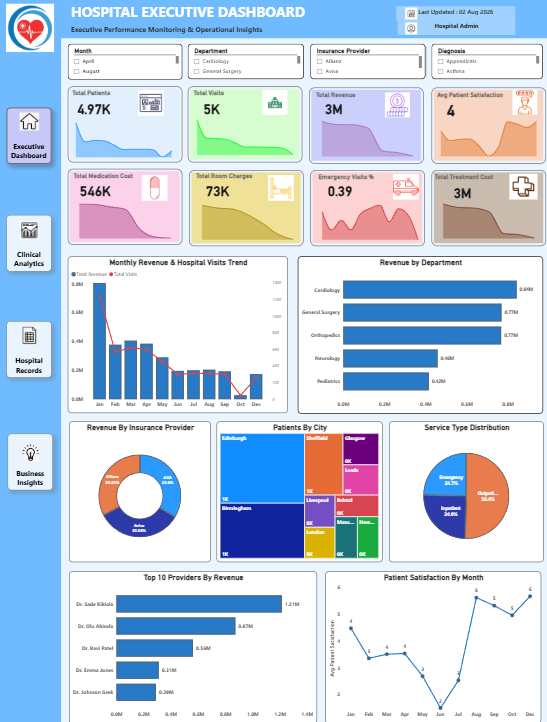

This screenshot's page, from the dashboard's own definition file:
{"tool":"powerbi","page":{"name":"Executive Dashboard","canvas":[1470,1950],"ordinal":0},"visuals":[{"type":"shape","box":[0,101.4,165.7,1848.6],"z":0,"group":"g4"},{"type":"shape","box":[181.7,231.1,305.6,202.8],"z":0,"group":"g1"},{"type":"lineClusteredColumnComboChart","title":"Monthly Revenue & Hospital Visits Trend","fields":{"Category":["Date Table.Month Short"],"Y":["DAX Measures.Total Revenue"],"Y2":["DAX Measures.Total Visits"]},"box":[184,684,587.3,418.3],"z":0,"group":"g3"},{"type":"shape","box":[0,0,1470,102],"z":1000,"group":"g4"},{"type":"cardVisual","fields":{"Data":["DAX Measures.Total Patients"]},"box":[187.3,256.5,126.8,66.2],"z":1000,"group":"g1"},{"type":"clusteredBarChart","title":"Revenue by Department","fields":{"Category":["departments.Department"],"Y":["DAX Measures.Total Revenue"]},"box":[797.3,684.5,654,420],"z":1000,"group":"g3"},{"type":"textbox","box":[177.1,0,747.1,72.9],"z":2000,"group":"g4"},{"type":"donutChart","title":"Revenue By Insurance Provider","fields":{"Category":["insurance.Insurance Provider"],"Y":["DAX Measures.Total Revenue"]},"box":[186.6,1125.2,378.6,375.7],"z":2000,"group":"g3"},{"type":"textbox","box":[176.7,60,571.7,41.7],"z":3000,"group":"g4"},{"type":"pieChart","title":"Service Type Distribution","fields":{"Category":["visits.Service Type"],"Y":["DAX Measures.Total Visits"]},"box":[1040.9,1125.2,412.9,375.7],"z":3000,"group":"g3"},{"type":"image","box":[8.6,8.6,145.7,128.6],"z":4000,"group":"g4"},{"type":"treemap","title":"Patients By City","fields":{"Group":["cities.City"],"Values":["DAX Measures.Total Patients"]},"box":[581.6,1125.2,442.9,375.7],"z":4000,"group":"g3"},{"type":"group","id":"g1","title":"Group 1","box":[181.7,231,1274.6,425.4],"z":5000,"group":"g4"},{"type":"clusteredBarChart","title":"Top 10 Providers By Revenue","fields":{"Category":["providers.Provider Name"],"Y":["DAX Measures.Total Revenue"]},"box":[186.6,1523.8,661.4,407.1],"z":5000,"group":"g3"},{"type":"textbox","box":[187.3,234,122.5,43.7],"z":6000,"group":"g1"},{"type":"actionButton","box":[20,285,120,150],"z":6000,"group":"g4"},{"type":"lineChart","title":"Patient Satisfaction By Month","fields":{"Category":["Date Table.Month Short"],"Y":["DAX Measures.Avg Patient Satisfaction"]},"box":[872.3,1523.8,575.7,407.1],"z":6000,"group":"g3"},{"type":"group","id":"g2","title":"Group 2","box":[182,116,1266,96],"z":7000,"group":"g4"},{"type":"areaChart","fields":{"Category":["Date Table.Month Short"],"Y":["DAX Measures.Monthly Patients"]},"box":[187.3,312.8,285.9,111.3],"z":7000,"group":"g1"},{"type":"cardVisual","fields":{"Data":["DAX Measures.Last Refresh"]},"box":[1043.3,0,350,73.3],"z":8000,"group":"g4"},{"type":"image","box":[345.1,242.4,116.9,69],"z":8000,"group":"g1"},{"type":"shape","box":[501.9,231,305.6,202.8],"z":9000,"group":"g1"},{"type":"group","id":"g3","title":"Group 3","box":[184,684,1268,1246],"z":9000,"group":"g4"},{"type":"cardVisual","fields":{"Data":["DAX Measures.Total Visits"]},"box":[501.4,259.3,126.8,66.2],"z":10000,"group":"g1"},{"type":"actionButton","box":[20,571.7,120,150],"z":10000,"group":"g4"},{"type":"textbox","box":[511.2,234.5,121.3,42.7],"z":11000,"group":"g1"},{"type":"image","box":[51.7,300,55,48.3],"z":11000,"group":"g4"},{"type":"areaChart","fields":{"Category":["Date Table.Month Short"],"Y":["DAX Measures.Total Visits"]},"box":[511.2,307.8,285.3,112],"z":12000,"group":"g1"},{"type":"image","box":[51.7,588.3,55,48.3],"z":12000,"group":"g4"},{"type":"image","box":[681,242.3,104.2,66.2],"z":13000,"group":"g1"},{"type":"actionButton","box":[21.7,1156.7,120,150],"z":13000,"group":"g4"},{"type":"shape","box":[826.4,233.3,305.6,202.8],"z":14000,"group":"g1"},{"type":"actionButton","box":[20,855,120,150],"z":14000,"group":"g4"},{"type":"cardVisual","fields":{"Data":["DAX Measures.Total Revenue"]},"box":[826.8,259.3,126.8,66.2],"z":15000,"group":"g1"},{"type":"image","box":[56.7,1183.3,55,48.3],"z":15000,"group":"g4"},{"type":"textbox","box":[838,238.2,121.1,42.3],"z":16000,"group":"g1"},{"type":"image","box":[53.3,870,55,48.3],"z":16000,"group":"g4"},{"type":"textbox","box":[1061.7,53.3,313.3,40],"z":17000,"group":"g4"},{"type":"areaChart","fields":{"Y":["DAX Measures.Total Revenue"],"Category":["Date Table.Weekday"]},"box":[838,310,285.9,112.7],"z":17000,"group":"g1"},{"type":"image","box":[1083.3,20,31.7,31.7],"z":18000,"group":"g4"},{"type":"image","box":[1009.9,246.6,104.2,66.2],"z":18000,"group":"g1"},{"type":"image","box":[1083.3,55,31.7,38.3],"z":19000,"group":"g4"},{"type":"shape","box":[1150.9,234.4,305.6,202.8],"z":19000,"group":"g1"},{"type":"group","id":"g4","title":"Group 4","box":[0,0,1470,1950],"z":19001},{"type":"cardVisual","fields":{"Data":["DAX Measures.Avg Patient Satisfaction"]},"box":[1171.8,259.3,63.4,74.6],"z":20000,"group":"g1"},{"type":"textbox","box":[1162,238.2,253.5,42.3],"z":21000,"group":"g1"},{"type":"areaChart","fields":{"Category":["Date Table.Month Short"],"Y":["DAX Measures.Avg Patient Satisfaction"]},"box":[1161.4,311.2,285.3,112],"z":22000,"group":"g1"},{"type":"image","box":[1349.3,242.4,104.2,66.2],"z":23000,"group":"g1"},{"type":"shape","box":[181.8,450.7,305.6,202.8],"z":25000,"group":"g1"},{"type":"cardVisual","fields":{"Data":["DAX Measures.Total Medication Cost"]},"box":[191.7,476.1,126.8,66.2],"z":26000,"group":"g1"},{"type":"textbox","box":[191.6,453.7,187.3,43.7],"z":27000,"group":"g1"},{"type":"areaChart","fields":{"Y":["DAX Measures.Total Medication Cost"],"Category":["Date Table.Weekday"]},"box":[191.7,532.4,285.9,111.3],"z":28000,"group":"g1"},{"type":"image","box":[356.3,466.4,116.9,69],"z":29000,"group":"g1"},{"type":"shape","box":[504.8,453,305.6,202.8],"z":30000,"group":"g1"},{"type":"cardVisual","fields":{"Data":["DAX Measures.Total Room Charges"]},"box":[519.6,478.3,126.8,66.2],"z":31000,"group":"g1"},{"type":"textbox","box":[519.7,455.1,173.2,43.7],"z":32000,"group":"g1"},{"type":"areaChart","fields":{"Y":["DAX Measures.Total Room Charges"],"Category":["Date Table.Weekday"]},"box":[519.6,534.7,285.9,111.3],"z":33000,"group":"g1"},{"type":"image","box":[690.2,466.4,116.9,69],"z":34000,"group":"g1"},{"type":"shape","box":[827.8,454,305.6,202.8],"z":35000,"group":"g1"},{"type":"cardVisual","fields":{"Data":["DAX Measures.Emergency Visits %"]},"box":[846.2,479.3,126.8,66.2],"z":36000,"group":"g1"},{"type":"textbox","box":[846.5,456.5,178.9,43.7],"z":37000,"group":"g1"},{"type":"areaChart","fields":{"Category":["Date Table.Month Short"],"Y":["DAX Measures.Emergency Visits %"]},"box":[846.2,535.6,285.9,111.3],"z":38000,"group":"g1"},{"type":"image","box":[1025.4,464.9,116.9,69],"z":39000,"group":"g1"},{"type":"shape","box":[1150.7,453.7,305.6,202.8],"z":40000,"group":"g1"},{"type":"cardVisual","fields":{"Data":["DAX Measures.Total Treatment Cost"]},"box":[1171.8,480.4,126.8,66.2],"z":41000,"group":"g1"},{"type":"textbox","box":[1154.9,457.9,184.5,43.7],"z":42000,"group":"g1"},{"type":"areaChart","fields":{"Y":["DAX Measures.Total Treatment Cost"],"Category":["Date Table.Weekday"]},"box":[1162,532.5,285.9,111.3],"z":43000,"group":"g1"},{"type":"image","box":[1339.4,463.5,116.9,69],"z":44000,"group":"g1"},{"type":"slicer","fields":{"Values":["Date Table.Month"]},"box":[182,116,305.6,95.8],"z":45000,"group":"g2"},{"type":"slicer","fields":{"Values":["departments.Department"]},"box":[503.1,116,309.9,94.4],"z":46000,"group":"g2"},{"type":"slicer","fields":{"Values":["insurance.Insurance Provider"]},"box":[828.5,117.4,307,94.4],"z":47000,"group":"g2"},{"type":"slicer","fields":{"Values":["diagnoses.Diagnosis"]},"box":[1151,116,297.2,94.4],"z":48000,"group":"g2"}]}

Visuals, with their boxes on the page's 1470x1950 design canvas (x1, y1, x2, y2). These are canvas units, not pixel positions in the 547x722 screenshot, which may show the page scaled, cropped or inside an application window:
shape: {"x1": 0, "y1": 101, "x2": 166, "y2": 1950}
shape: {"x1": 182, "y1": 231, "x2": 487, "y2": 434}
"Monthly Revenue & Hospital Visits Trend" lineClusteredColumnComboChart: {"x1": 184, "y1": 684, "x2": 771, "y2": 1102}
shape: {"x1": 0, "y1": 0, "x2": 1470, "y2": 102}
cardVisual - DAX Measures.Total Patients: {"x1": 187, "y1": 256, "x2": 314, "y2": 323}
"Revenue by Department" clusteredBarChart: {"x1": 797, "y1": 684, "x2": 1451, "y2": 1104}
textbox: {"x1": 177, "y1": 0, "x2": 924, "y2": 73}
"Revenue By Insurance Provider" donutChart: {"x1": 187, "y1": 1125, "x2": 565, "y2": 1501}
textbox: {"x1": 177, "y1": 60, "x2": 748, "y2": 102}
"Service Type Distribution" pieChart: {"x1": 1041, "y1": 1125, "x2": 1454, "y2": 1501}
image: {"x1": 9, "y1": 9, "x2": 154, "y2": 137}
"Patients By City" treemap: {"x1": 582, "y1": 1125, "x2": 1024, "y2": 1501}
"Group 1" group: {"x1": 182, "y1": 231, "x2": 1456, "y2": 656}
"Top 10 Providers By Revenue" clusteredBarChart: {"x1": 187, "y1": 1524, "x2": 848, "y2": 1931}
textbox: {"x1": 187, "y1": 234, "x2": 310, "y2": 278}
actionButton: {"x1": 20, "y1": 285, "x2": 140, "y2": 435}
"Patient Satisfaction By Month" lineChart: {"x1": 872, "y1": 1524, "x2": 1448, "y2": 1931}
"Group 2" group: {"x1": 182, "y1": 116, "x2": 1448, "y2": 212}
areaChart - Date Table.Month Short x DAX Measures.Monthly Patients: {"x1": 187, "y1": 313, "x2": 473, "y2": 424}
cardVisual - DAX Measures.Last Refresh: {"x1": 1043, "y1": 0, "x2": 1393, "y2": 73}
image: {"x1": 345, "y1": 242, "x2": 462, "y2": 311}
shape: {"x1": 502, "y1": 231, "x2": 808, "y2": 434}
"Group 3" group: {"x1": 184, "y1": 684, "x2": 1452, "y2": 1930}
cardVisual - DAX Measures.Total Visits: {"x1": 501, "y1": 259, "x2": 628, "y2": 326}
actionButton: {"x1": 20, "y1": 572, "x2": 140, "y2": 722}
textbox: {"x1": 511, "y1": 234, "x2": 632, "y2": 277}
image: {"x1": 52, "y1": 300, "x2": 107, "y2": 348}
areaChart - Date Table.Month Short x DAX Measures.Total Visits: {"x1": 511, "y1": 308, "x2": 796, "y2": 420}
image: {"x1": 52, "y1": 588, "x2": 107, "y2": 637}
image: {"x1": 681, "y1": 242, "x2": 785, "y2": 308}
actionButton: {"x1": 22, "y1": 1157, "x2": 142, "y2": 1307}
shape: {"x1": 826, "y1": 233, "x2": 1132, "y2": 436}
actionButton: {"x1": 20, "y1": 855, "x2": 140, "y2": 1005}
cardVisual - DAX Measures.Total Revenue: {"x1": 827, "y1": 259, "x2": 954, "y2": 326}
image: {"x1": 57, "y1": 1183, "x2": 112, "y2": 1232}
textbox: {"x1": 838, "y1": 238, "x2": 959, "y2": 280}
image: {"x1": 53, "y1": 870, "x2": 108, "y2": 918}
textbox: {"x1": 1062, "y1": 53, "x2": 1375, "y2": 93}
areaChart - DAX Measures.Total Revenue x Date Table.Weekday: {"x1": 838, "y1": 310, "x2": 1124, "y2": 423}
image: {"x1": 1083, "y1": 20, "x2": 1115, "y2": 52}
image: {"x1": 1010, "y1": 247, "x2": 1114, "y2": 313}
image: {"x1": 1083, "y1": 55, "x2": 1115, "y2": 93}
shape: {"x1": 1151, "y1": 234, "x2": 1456, "y2": 437}
"Group 4" group: {"x1": 0, "y1": 0, "x2": 1470, "y2": 1950}
cardVisual - DAX Measures.Avg Patient Satisfaction: {"x1": 1172, "y1": 259, "x2": 1235, "y2": 334}
textbox: {"x1": 1162, "y1": 238, "x2": 1416, "y2": 280}
areaChart - Date Table.Month Short x DAX Measures.Avg Patient Satisfaction: {"x1": 1161, "y1": 311, "x2": 1447, "y2": 423}
image: {"x1": 1349, "y1": 242, "x2": 1454, "y2": 309}
shape: {"x1": 182, "y1": 451, "x2": 487, "y2": 654}
cardVisual - DAX Measures.Total Medication Cost: {"x1": 192, "y1": 476, "x2": 318, "y2": 542}
textbox: {"x1": 192, "y1": 454, "x2": 379, "y2": 497}
areaChart - DAX Measures.Total Medication Cost x Date Table.Weekday: {"x1": 192, "y1": 532, "x2": 478, "y2": 644}
image: {"x1": 356, "y1": 466, "x2": 473, "y2": 535}
shape: {"x1": 505, "y1": 453, "x2": 810, "y2": 656}
cardVisual - DAX Measures.Total Room Charges: {"x1": 520, "y1": 478, "x2": 646, "y2": 544}
textbox: {"x1": 520, "y1": 455, "x2": 693, "y2": 499}
areaChart - DAX Measures.Total Room Charges x Date Table.Weekday: {"x1": 520, "y1": 535, "x2": 806, "y2": 646}
image: {"x1": 690, "y1": 466, "x2": 807, "y2": 535}
shape: {"x1": 828, "y1": 454, "x2": 1133, "y2": 657}
cardVisual - DAX Measures.Emergency Visits %: {"x1": 846, "y1": 479, "x2": 973, "y2": 546}
textbox: {"x1": 846, "y1": 456, "x2": 1025, "y2": 500}
areaChart - Date Table.Month Short x DAX Measures.Emergency Visits %: {"x1": 846, "y1": 536, "x2": 1132, "y2": 647}
image: {"x1": 1025, "y1": 465, "x2": 1142, "y2": 534}
shape: {"x1": 1151, "y1": 454, "x2": 1456, "y2": 656}
cardVisual - DAX Measures.Total Treatment Cost: {"x1": 1172, "y1": 480, "x2": 1299, "y2": 547}
textbox: {"x1": 1155, "y1": 458, "x2": 1339, "y2": 502}
areaChart - DAX Measures.Total Treatment Cost x Date Table.Weekday: {"x1": 1162, "y1": 532, "x2": 1448, "y2": 644}
image: {"x1": 1339, "y1": 464, "x2": 1456, "y2": 532}
slicer - Date Table.Month: {"x1": 182, "y1": 116, "x2": 488, "y2": 212}
slicer - departments.Department: {"x1": 503, "y1": 116, "x2": 813, "y2": 210}
slicer - insurance.Insurance Provider: {"x1": 828, "y1": 117, "x2": 1136, "y2": 212}
slicer - diagnoses.Diagnosis: {"x1": 1151, "y1": 116, "x2": 1448, "y2": 210}
